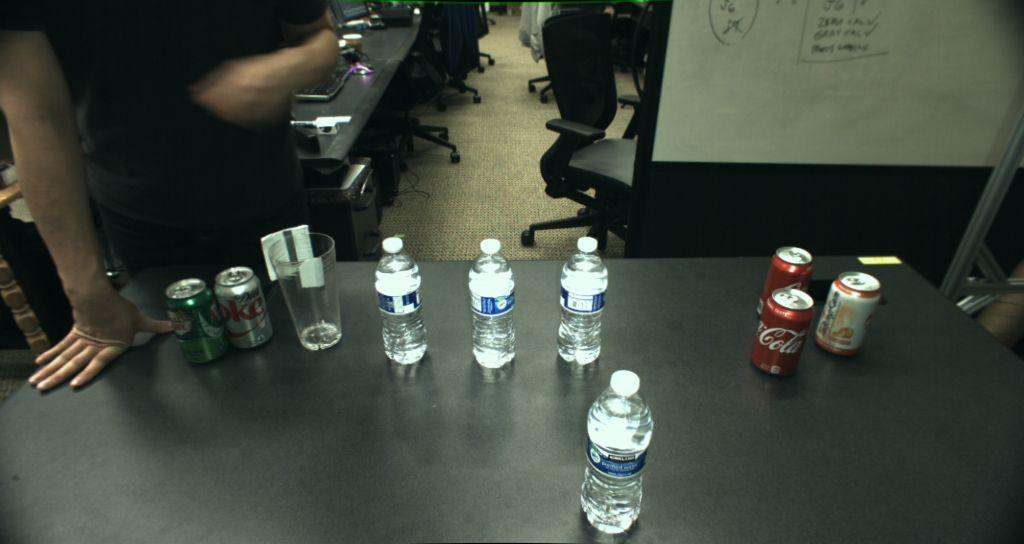can_coke: (752, 286, 814, 375)
can_diet_coke: (213, 266, 274, 351)
can_ginger_ale: (166, 277, 231, 366)
can_talking_rain_peach_nectarine: (813, 270, 880, 356)
water_bottle: (580, 369, 654, 533), (375, 237, 427, 365), (557, 236, 608, 365), (467, 238, 515, 368)
